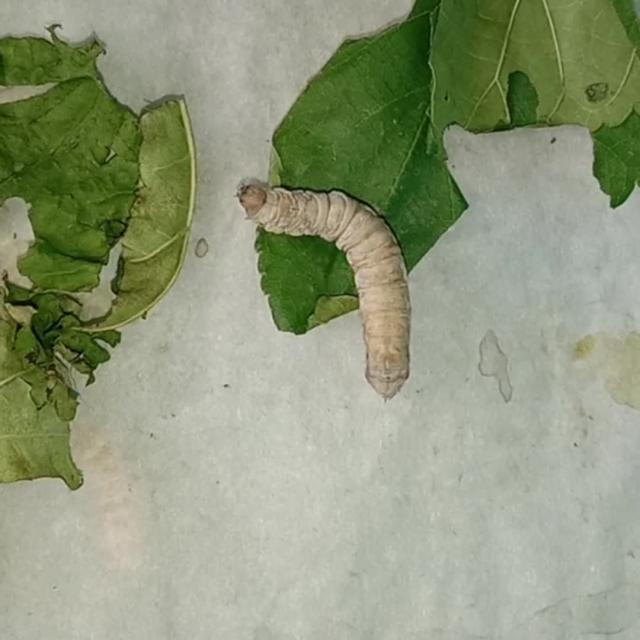Grasserie: (226, 168, 422, 404)
